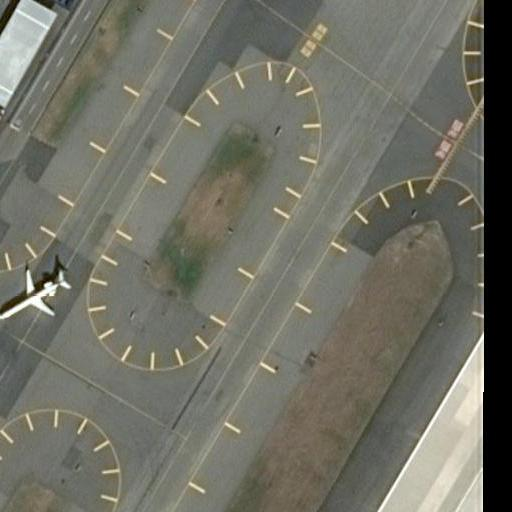Aircraft: (0, 258, 72, 329)
